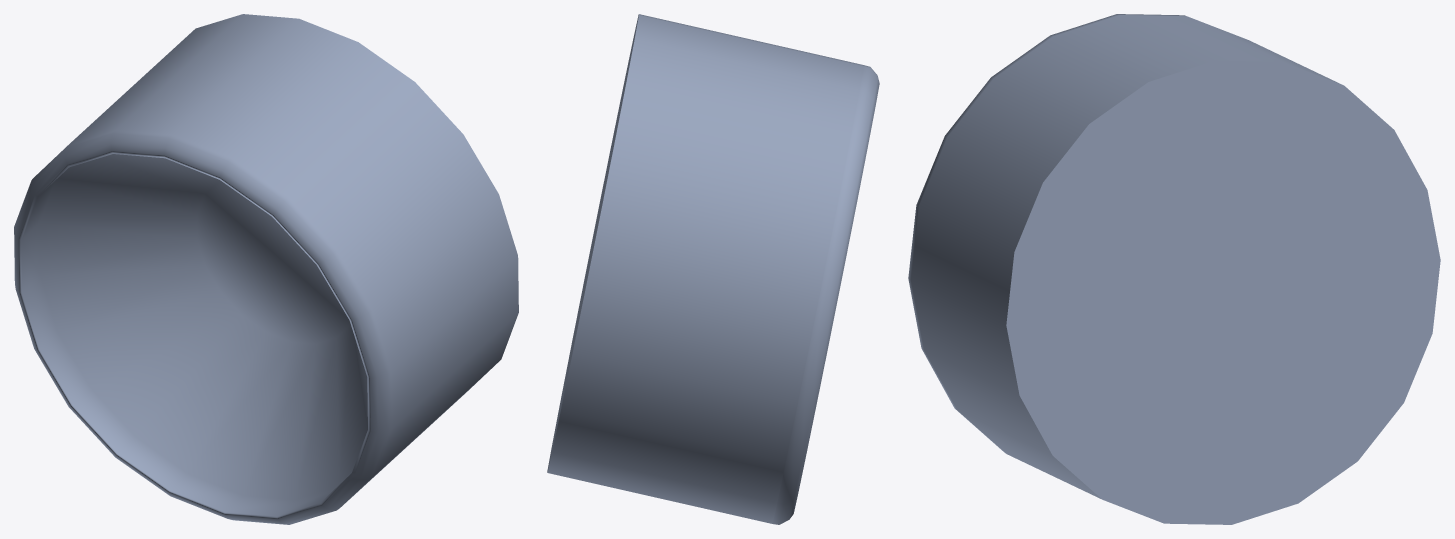
The model's file is TL4_8shapes_Round_Classic_Metal.001 3.glb.
The picture shows the model from 3 angles, left to right: view 1: azimuth 30°, elevation 25°; view 2: azimuth 150°, elevation 25°; view 3: azimuth 270°, elevation 25°; orthographic projection. The views are drawn at different scales.
Parts seen in each view (by area): view 1: TL4_8shapes_Round_Classic_Metal.001; view 2: TL4_8shapes_Round_Classic_Metal.001; view 3: TL4_8shapes_Round_Classic_Metal.001.
Part boxes in pixels (box(x1,y1,x2,y2)): TL4_8shapes_Round_Classic_Metal.001: box(14, 14, 518, 524); TL4_8shapes_Round_Classic_Metal.001: box(547, 14, 879, 524); TL4_8shapes_Round_Classic_Metal.001: box(908, 14, 1440, 524).
Size of the model in its own units: 0.4798 by 0.5672 by 0.5814.
